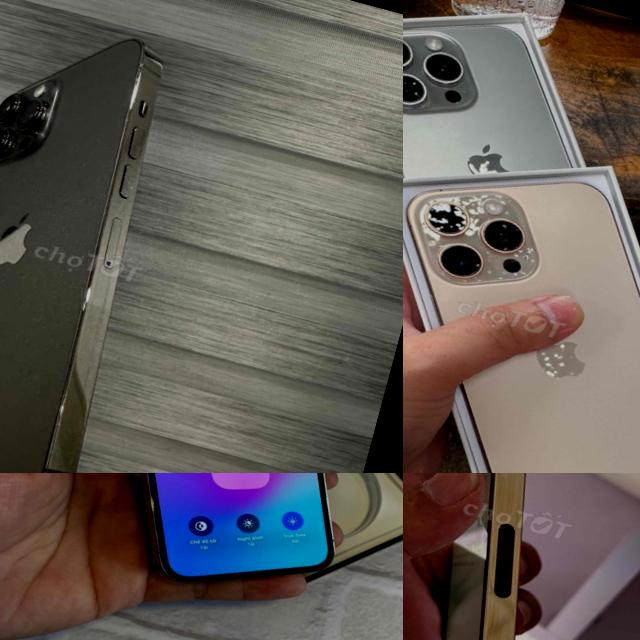gen_12_13: (0, 0, 216, 473), (39, 473, 402, 621), (403, 473, 640, 640)
gen_16: (403, 140, 640, 473)
